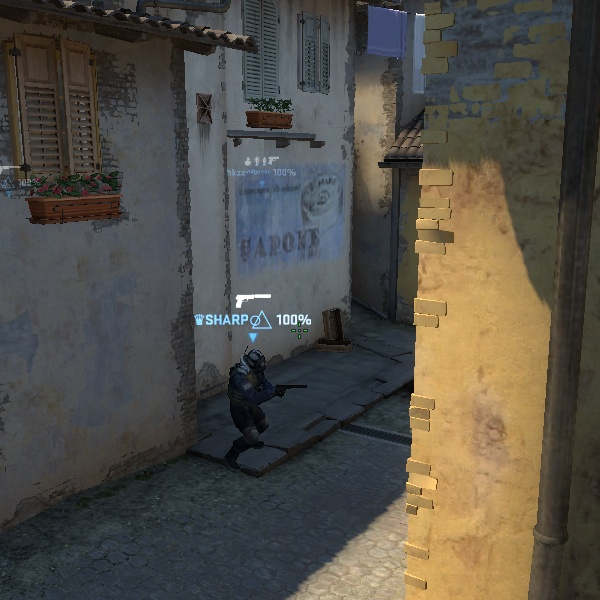ct_body: (216, 343, 287, 455)
ct_head: (237, 345, 271, 378)
